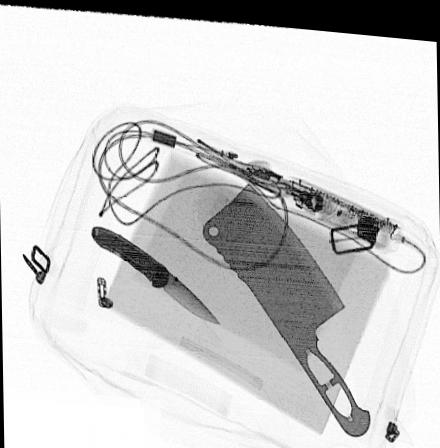Knife: (201, 177, 371, 431), (91, 224, 221, 320)
